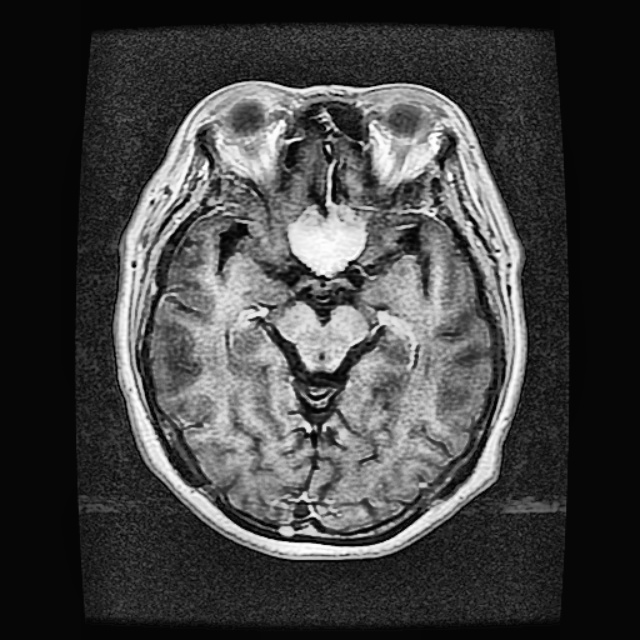Pituitary: (290, 202, 367, 277)
